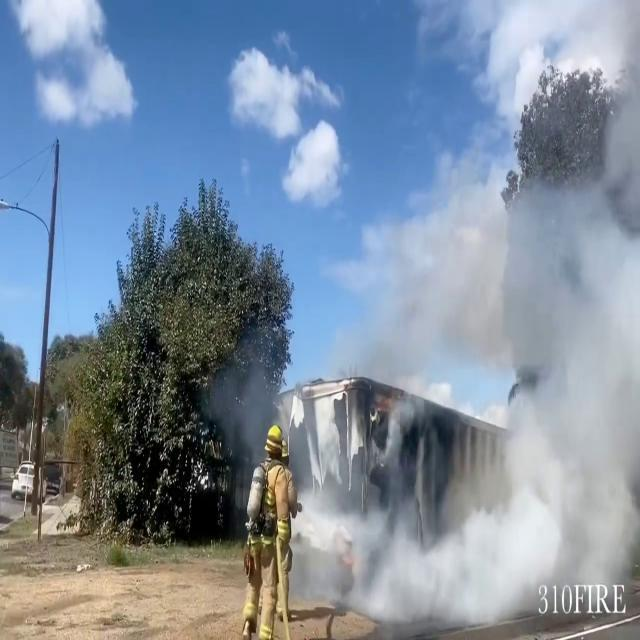Smoke: (256, 18, 640, 624)
